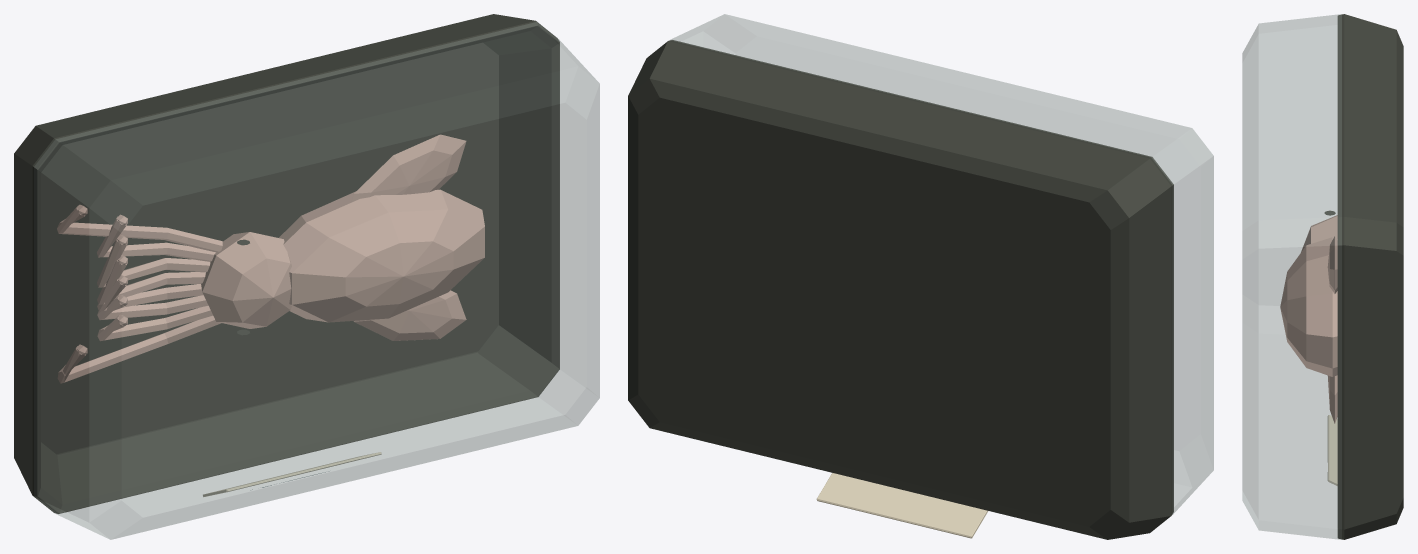
File: squid.glb
The picture shows the model from 3 angles, left to right: view 1: azimuth 30°, elevation 25°; view 2: azimuth 150°, elevation 25°; view 3: azimuth 270°, elevation 25°; orthographic projection. The views are drawn at different scales.
Parts seen in each view (by area): view 1: squid; view 2: squid; view 3: squid.
Part boxes in pixels (<box>): squid: <box>14,14,599,539</box>; squid: <box>628,14,1213,539</box>; squid: <box>1242,14,1403,539</box>.
Bounding box in the file's own units: 0.22 × 0.1643 × 0.068.
